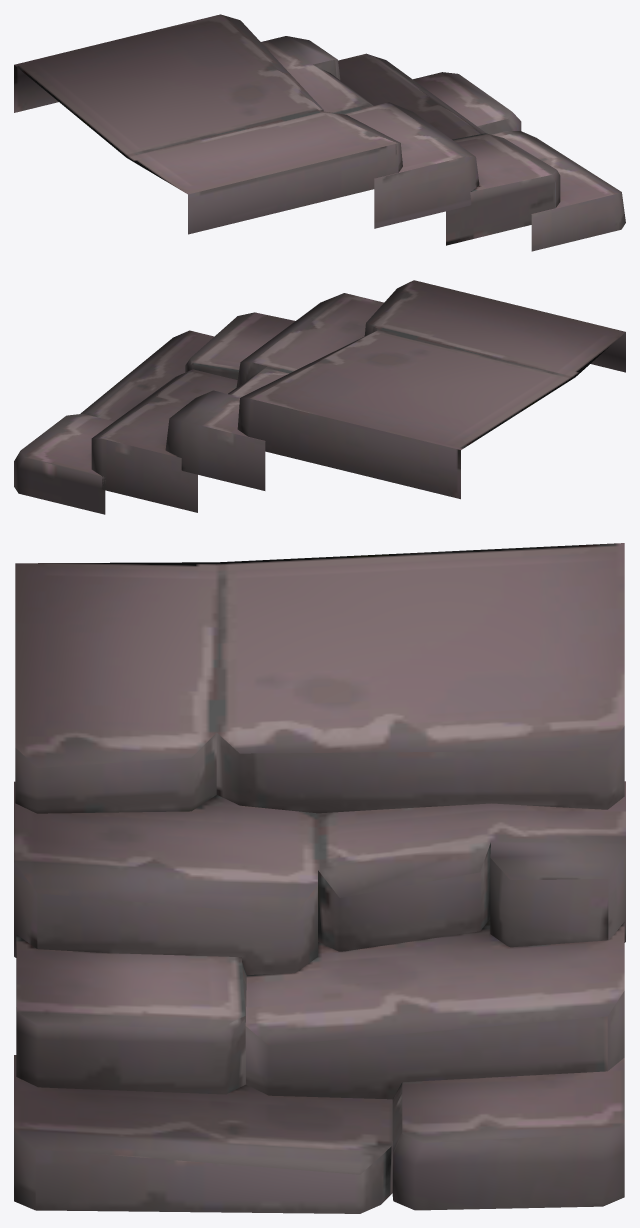
File: Stonewall_Stairs_01.fbx
The picture shows the model from 3 angles, top to bottom: view 1: azimuth 30°, elevation 25°; view 2: azimuth 150°, elevation 25°; view 3: azimuth 270°, elevation 25°; orthographic projection. The views are drawn at different scales.
Parts seen in each view (by area): view 1: Stonewall_Stairs_01; view 2: Stonewall_Stairs_01; view 3: Stonewall_Stairs_01.
Part boxes in pixels (x1,y1,x2,y2): Stonewall_Stairs_01: [14, 14, 625, 251]; Stonewall_Stairs_01: [14, 280, 625, 514]; Stonewall_Stairs_01: [14, 543, 625, 1213].
Size of the model in its own units: 2.73 by 0.8571 by 1.76.
